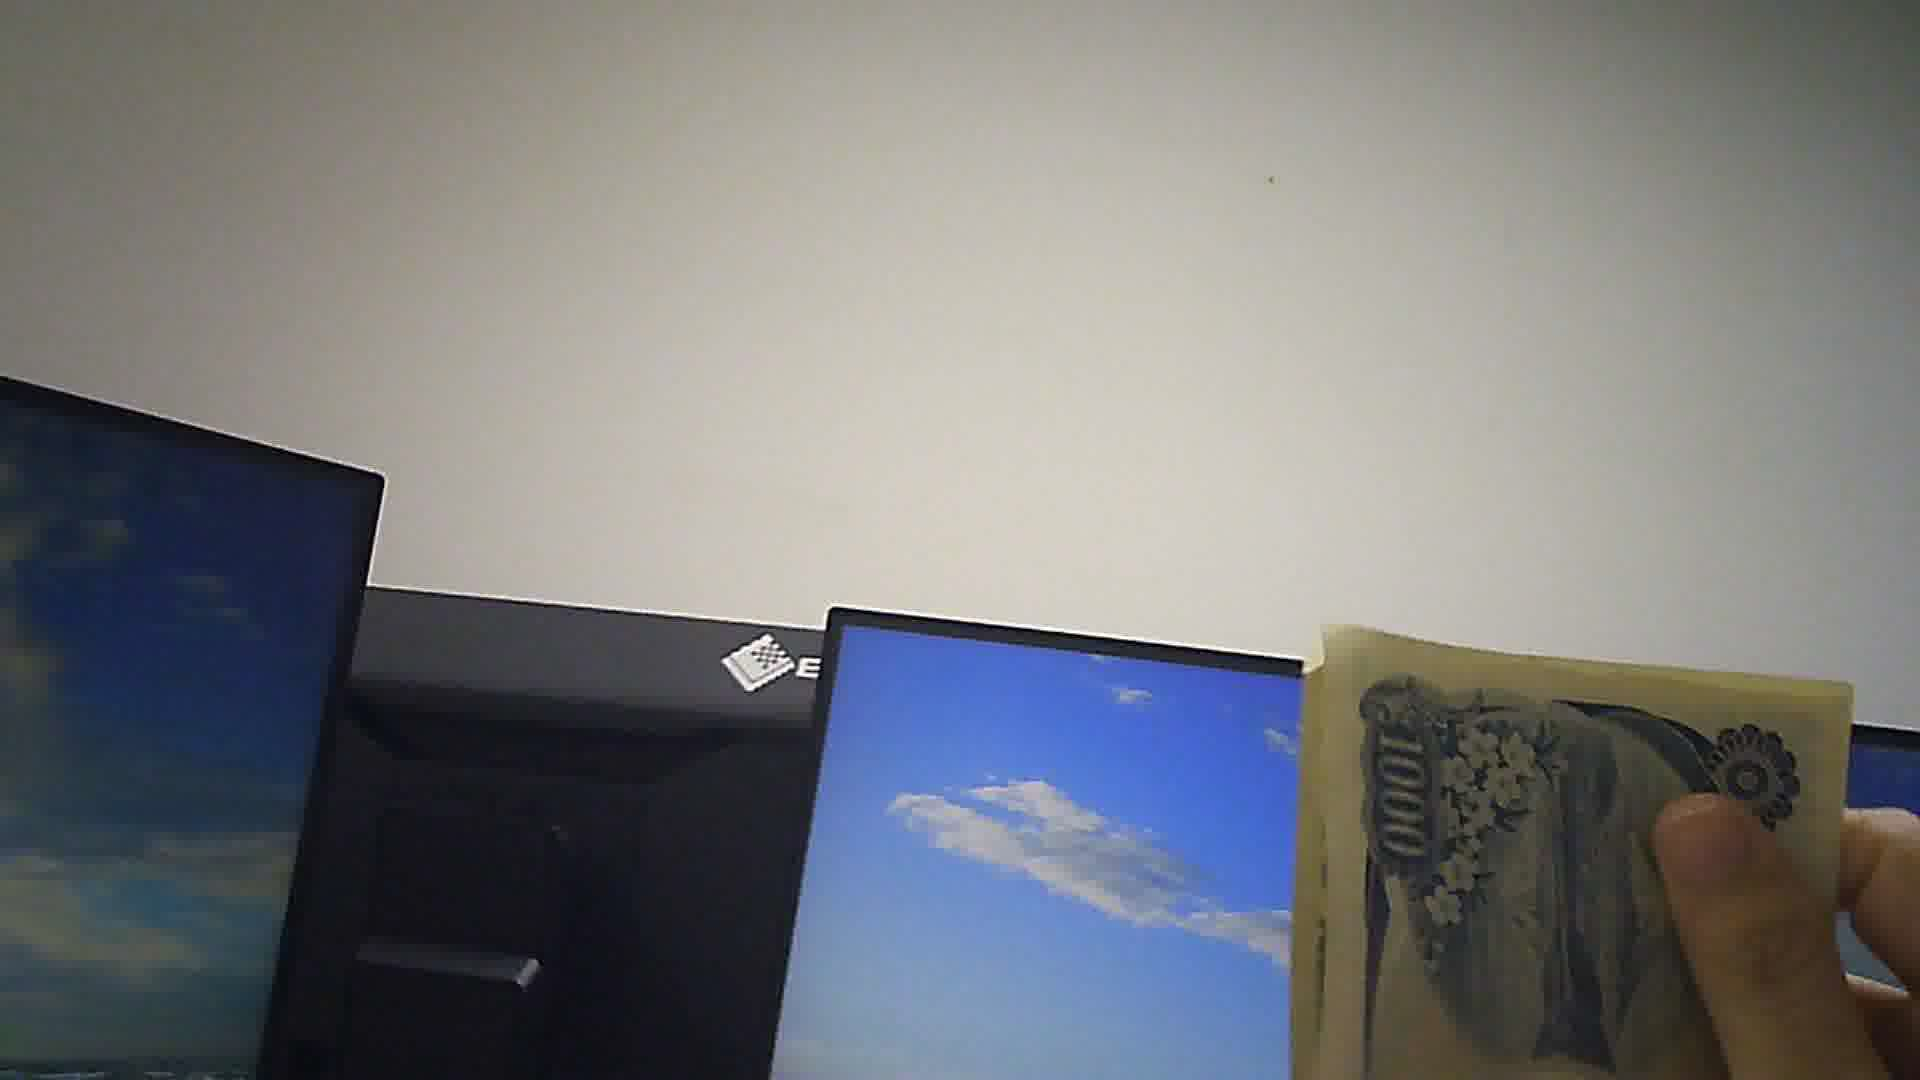1,000 Yen: (1298, 624, 1821, 1079)
